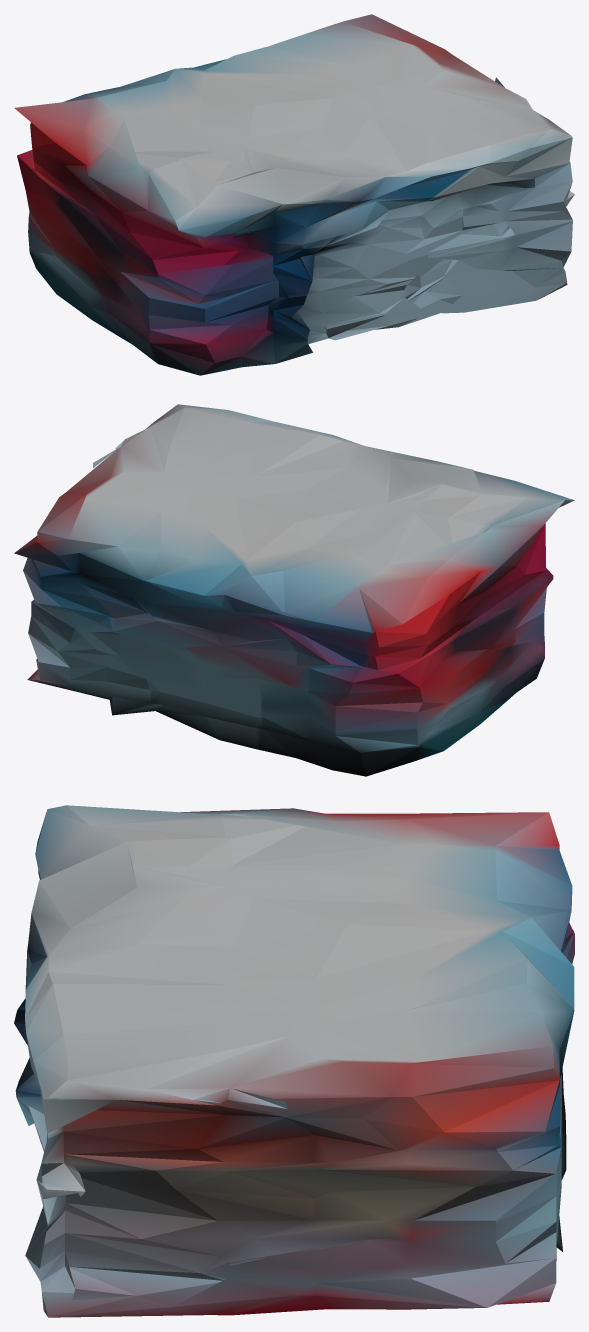
The picture shows the model from 3 angles, top to bottom: view 1: azimuth 30°, elevation 25°; view 2: azimuth 150°, elevation 25°; view 3: azimuth 270°, elevation 25°; orthographic projection. The views are drawn at different scales.
Size of the model in its own units: 10 by 4 by 8.
